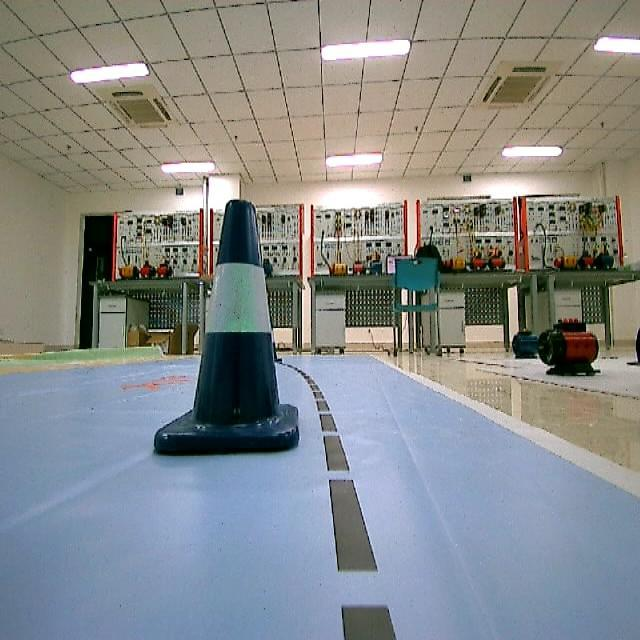obstacle: (148, 187, 306, 465)
